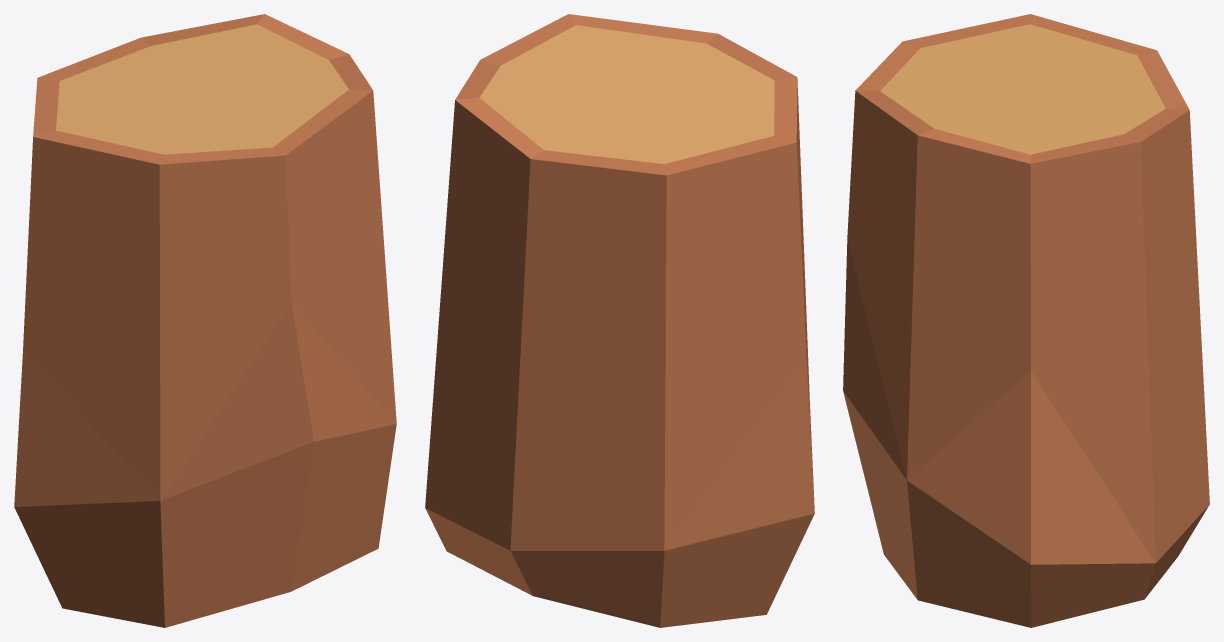
Rendered from CuttedTree3.fbx.
The picture shows the model from 3 angles, left to right: view 1: azimuth 30°, elevation 25°; view 2: azimuth 150°, elevation 25°; view 3: azimuth 270°, elevation 25°; orthographic projection.
Visible parts, largest first — view 1: CuttedTree3; view 2: CuttedTree3; view 3: CuttedTree3.
Boxes of the visible parts, left/top/right/bottom form: CuttedTree3: left=14, top=14, right=396, bottom=627; CuttedTree3: left=425, top=14, right=814, bottom=627; CuttedTree3: left=843, top=14, right=1209, bottom=627.
Size of the model in its own units: 202 by 259 by 171.
